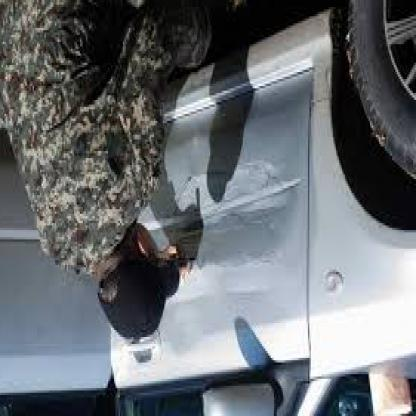dent: (183, 160, 294, 267)
